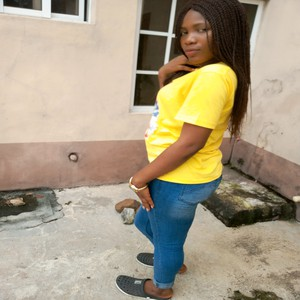Fulokoja_female_student: (167, 6, 232, 287)
